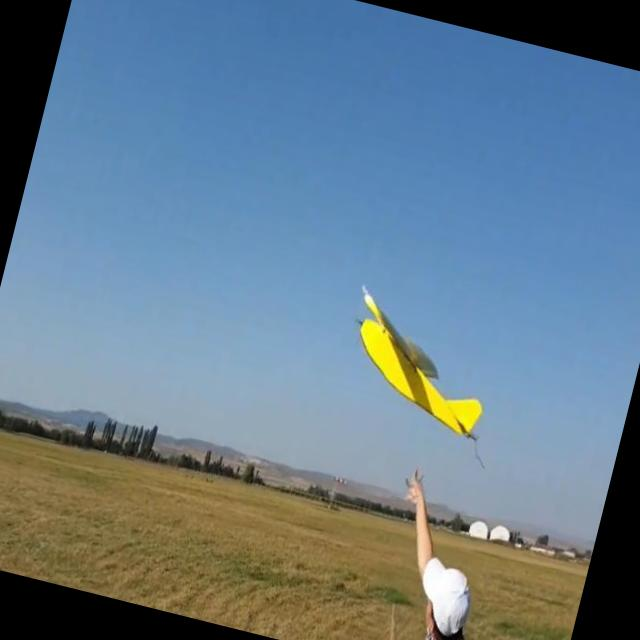UAV: (330, 266, 512, 443)
